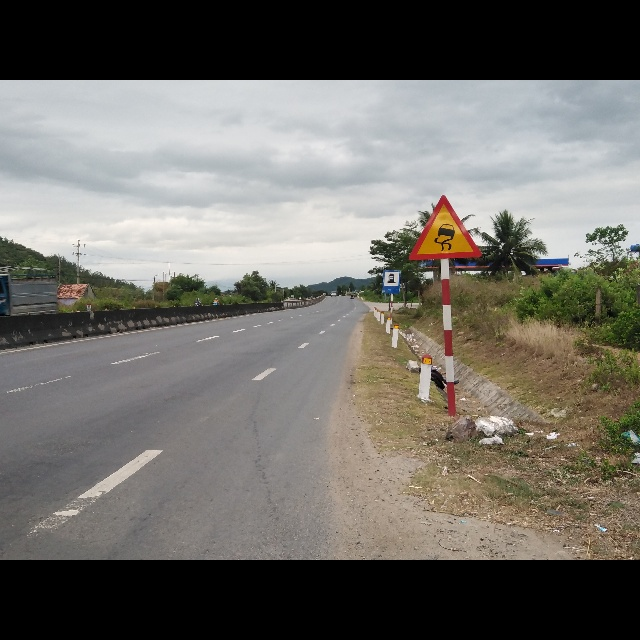Đường trơn trượt: (408, 191, 482, 259)
